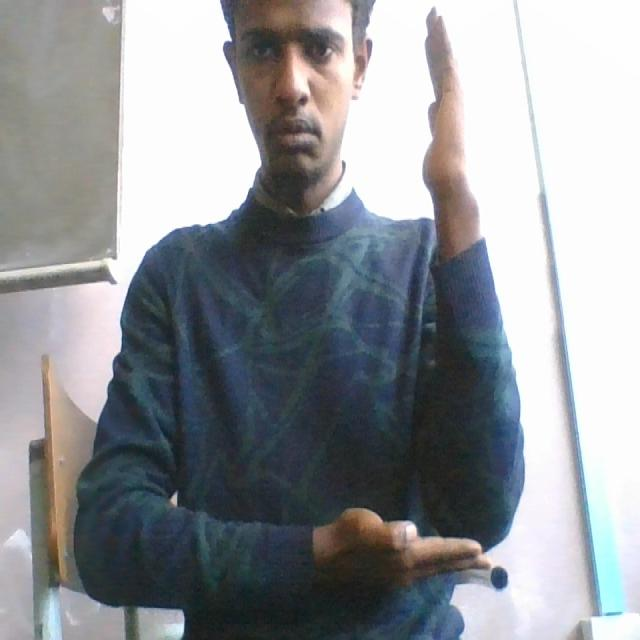egziabher: (316, 4, 523, 604)
